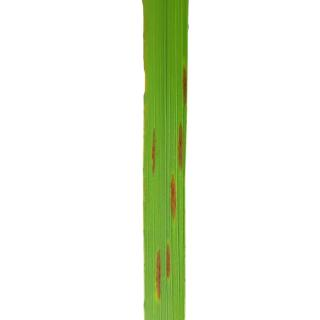Bercak-Cokelat-Sempit: (154, 241, 173, 303), (164, 174, 181, 222), (176, 121, 184, 173), (180, 66, 189, 111), (150, 125, 157, 175)
